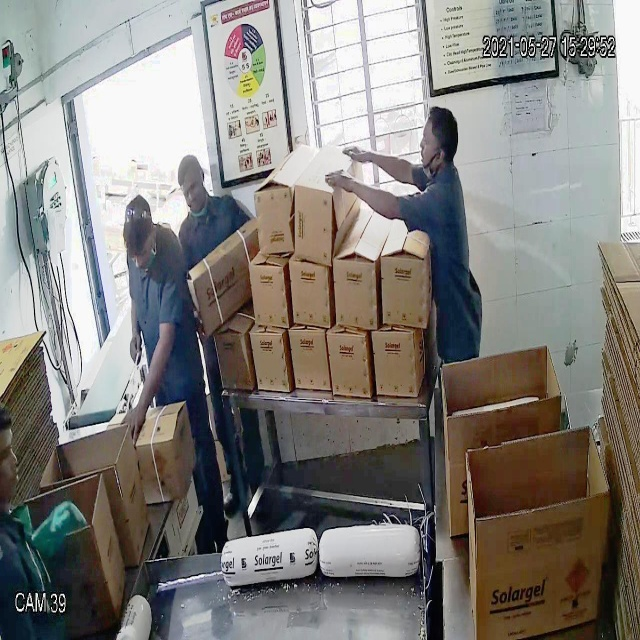Sin_gafas: (178, 170, 208, 204)
